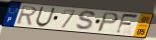7: (61, 9, 77, 30)
F: (114, 13, 140, 36)
P: (95, 12, 120, 33)
R: (16, 5, 38, 26)
S: (74, 10, 98, 32)
U: (34, 6, 56, 28)
